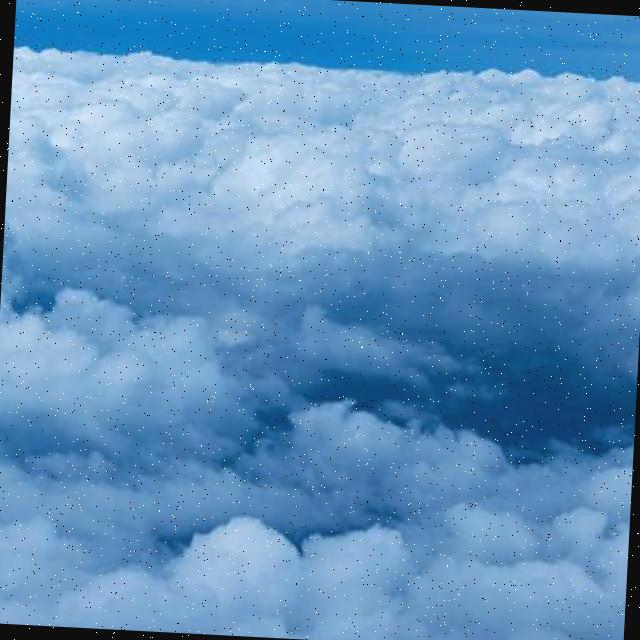Ac: (1, 39, 640, 640)
